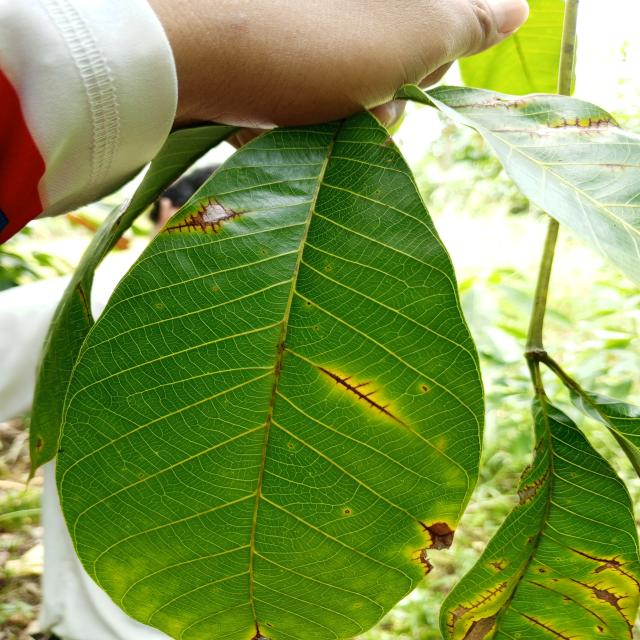Colletotrichum: (344, 510, 350, 513), (307, 302, 311, 305), (326, 267, 331, 269), (572, 474, 576, 476), (158, 305, 162, 307), (315, 326, 317, 328), (214, 288, 216, 290), (376, 192, 378, 194)
Corynespora: (318, 366, 404, 425), (568, 577, 634, 639), (567, 546, 640, 592), (446, 581, 508, 635), (162, 197, 251, 234), (488, 116, 618, 140), (447, 93, 571, 111), (518, 612, 582, 640), (518, 464, 551, 506), (75, 286, 91, 324), (583, 605, 607, 625), (417, 520, 441, 540), (409, 557, 430, 575), (486, 558, 506, 572), (526, 580, 548, 590), (252, 621, 262, 638), (534, 437, 544, 451), (530, 566, 549, 572)
Leaf-Blight: (462, 613, 498, 640)
